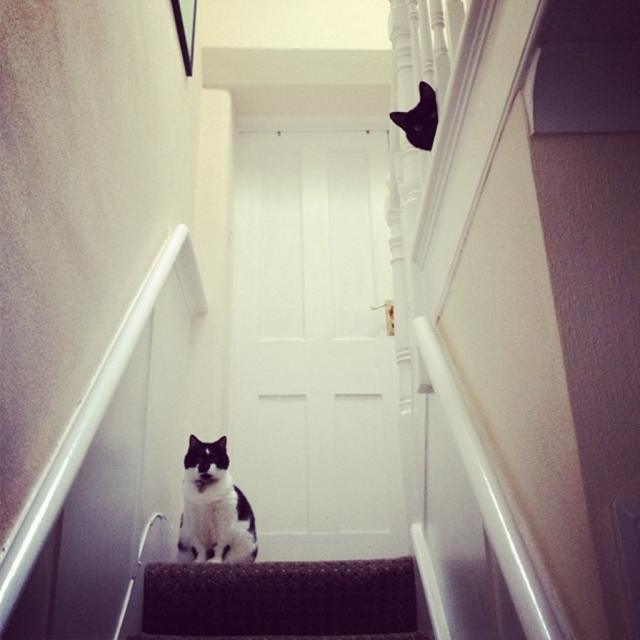Cat: (171, 429, 260, 566), (384, 78, 439, 153)
